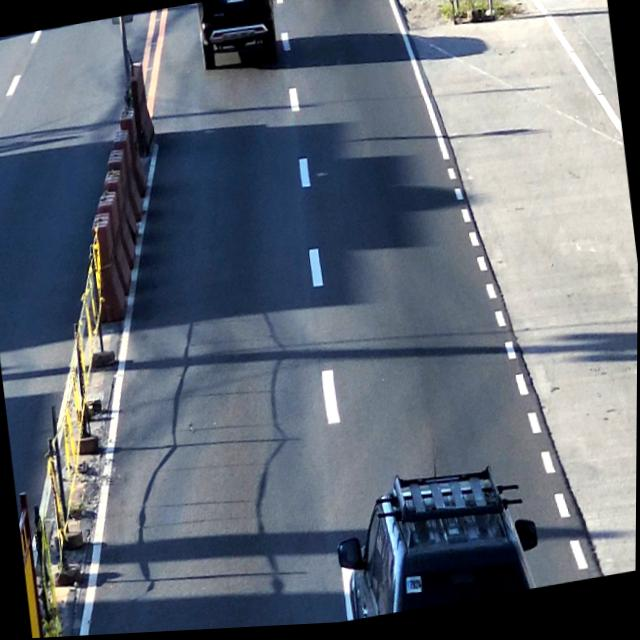Car: (330, 464, 539, 625), (196, 0, 279, 79)
License-Plate: (228, 0, 245, 7)
